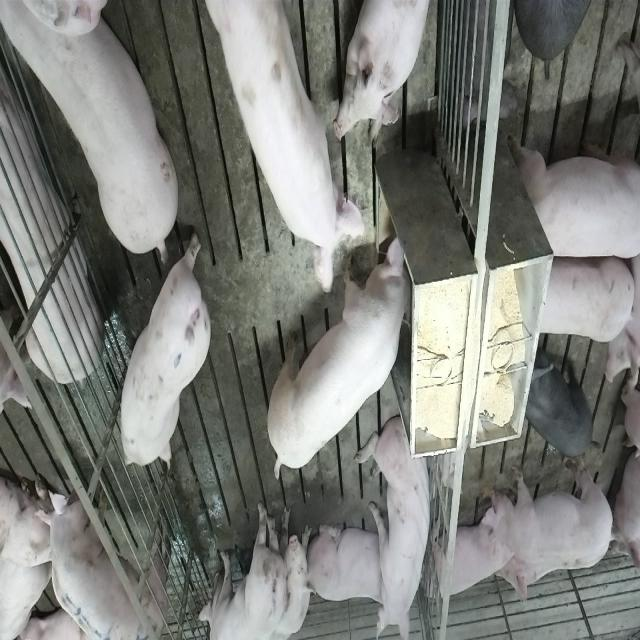Feeding: (202, 4, 372, 300), (270, 230, 420, 480)
Sitting: (358, 414, 436, 636), (196, 497, 315, 639)
Standing: (5, 6, 184, 266), (120, 228, 214, 472), (34, 488, 174, 640), (512, 124, 638, 262), (483, 458, 619, 560), (528, 252, 632, 344), (524, 354, 596, 464)
Sternal_lying: (0, 48, 100, 410), (337, 0, 437, 143), (430, 508, 513, 604), (310, 518, 390, 606)
